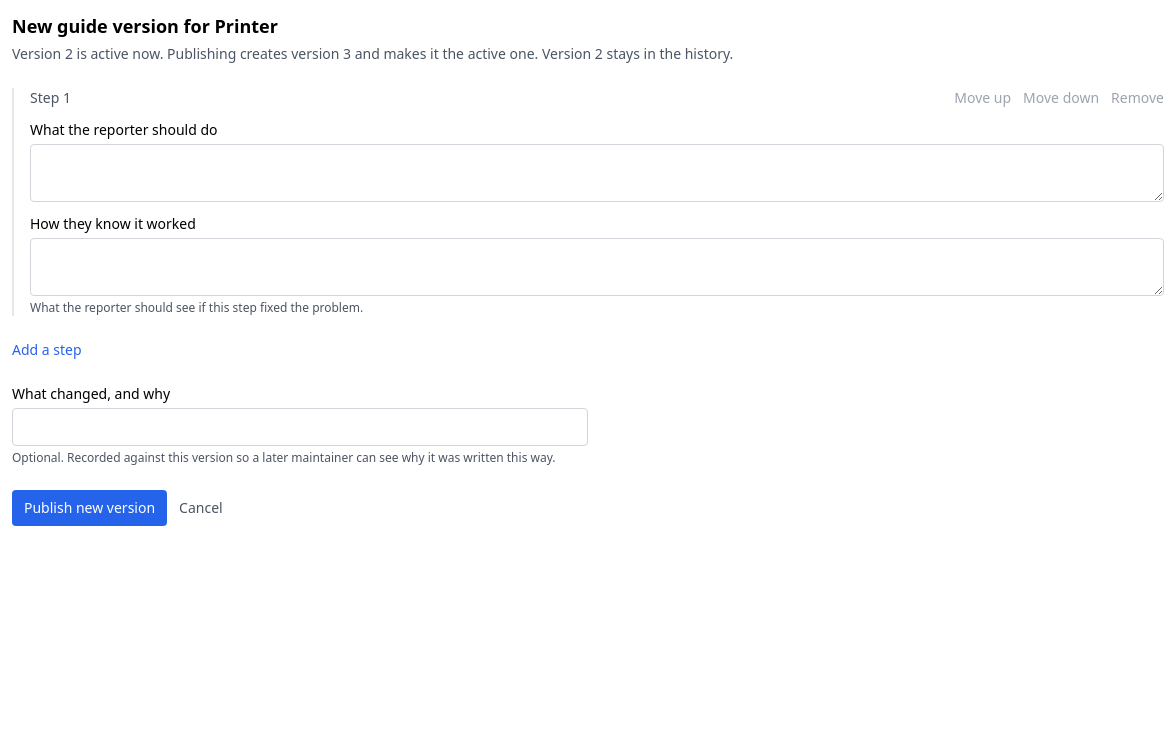
Scenario: GuideEditor — a rejected step is reported on that step (FR-013) › GE-013: publishing again after a fix is allowed — the button is not left disabled
Type "First hint." into the text box labelled "How they know it worked" at (597, 267), box top-left (30, 238), bottom-right (1164, 296)
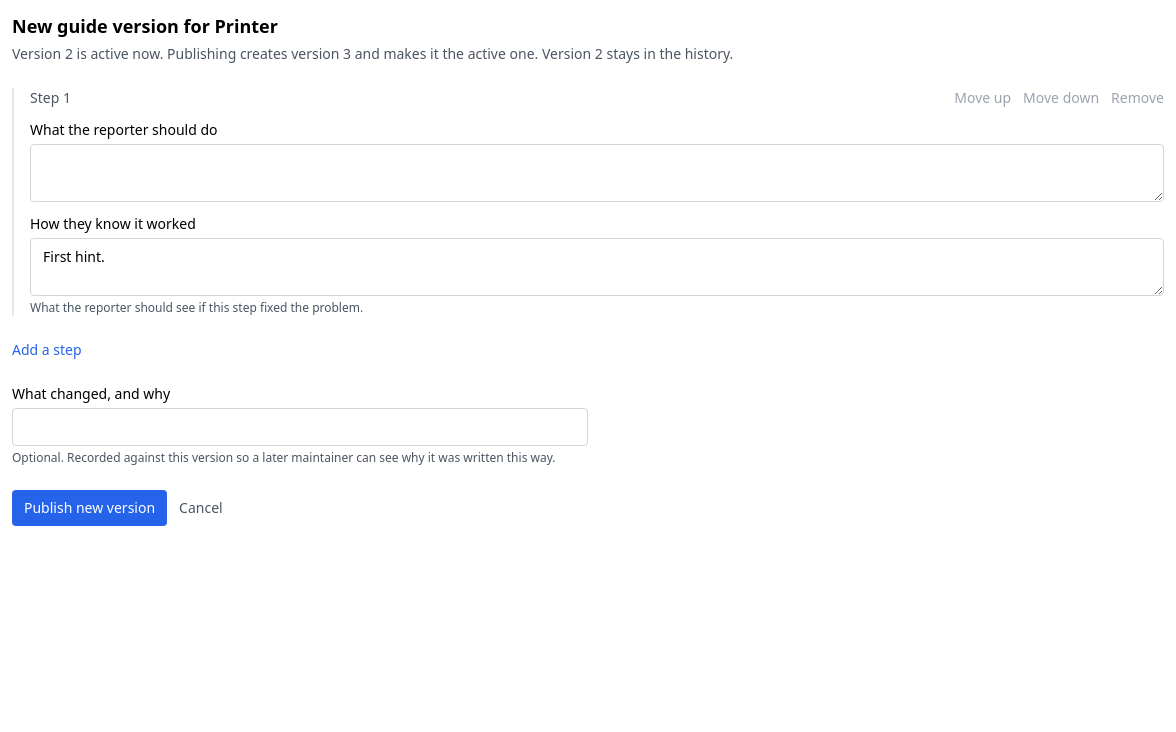
Click the button "Publish new version" at (90, 508), box top-left (12, 490), bottom-right (167, 526)
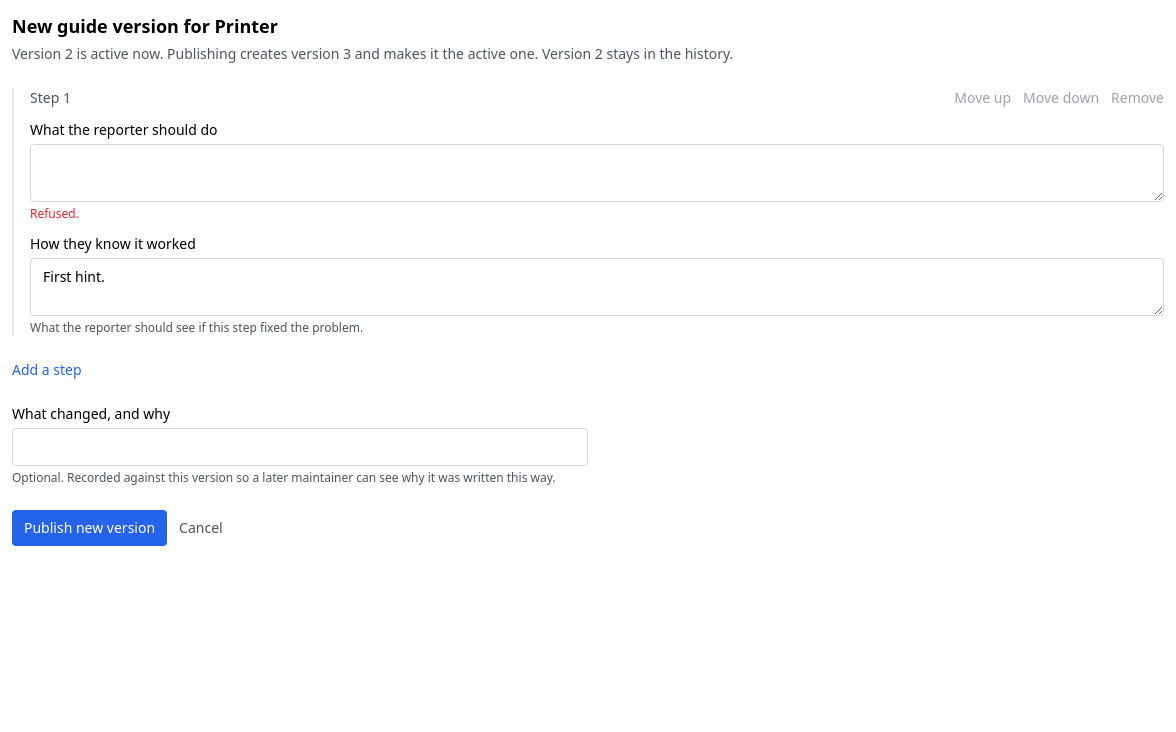
Expected: the button "Publish new version" is enabled, top-left (12, 510), bottom-right (167, 546)
Expected: the message "Refused." is shown, top-left (30, 205), bottom-right (79, 222)
